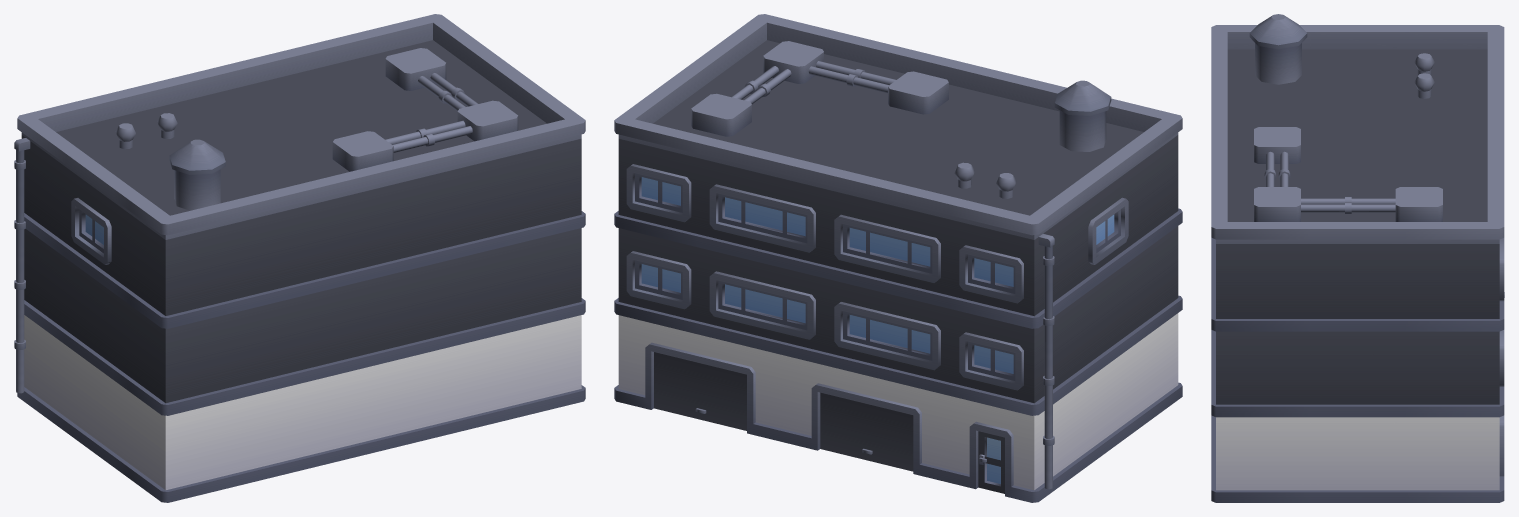
File: factory.glb
3 views of the same model, side by side, from view 1: azimuth 30°, elevation 25°; view 2: azimuth 150°, elevation 25°; view 3: azimuth 270°, elevation 25° (orthographic).
Visible parts, largest first — view 1: building-a; view 2: building-a; view 3: building-a.
Boxes of the visible parts, <box> form: building-a: <box>14,14,585,502</box>; building-a: <box>614,14,1182,502</box>; building-a: <box>1211,14,1504,502</box>.
Bounding box in the file's own units: 2.08 × 1.47 × 1.24.
Materials: 1 (1 with a texture image).
